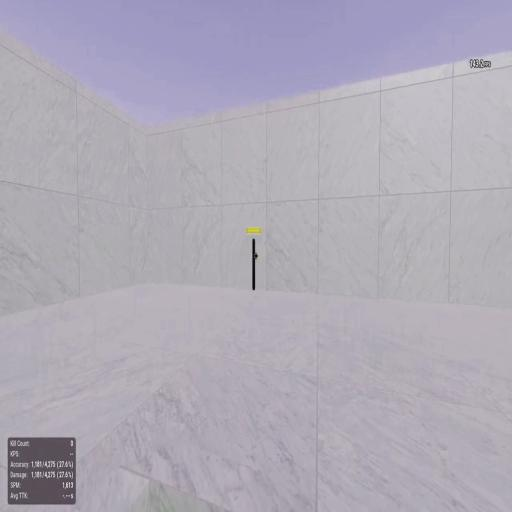Crosshair: (254, 252, 258, 261)
Target: (252, 237, 256, 290)
